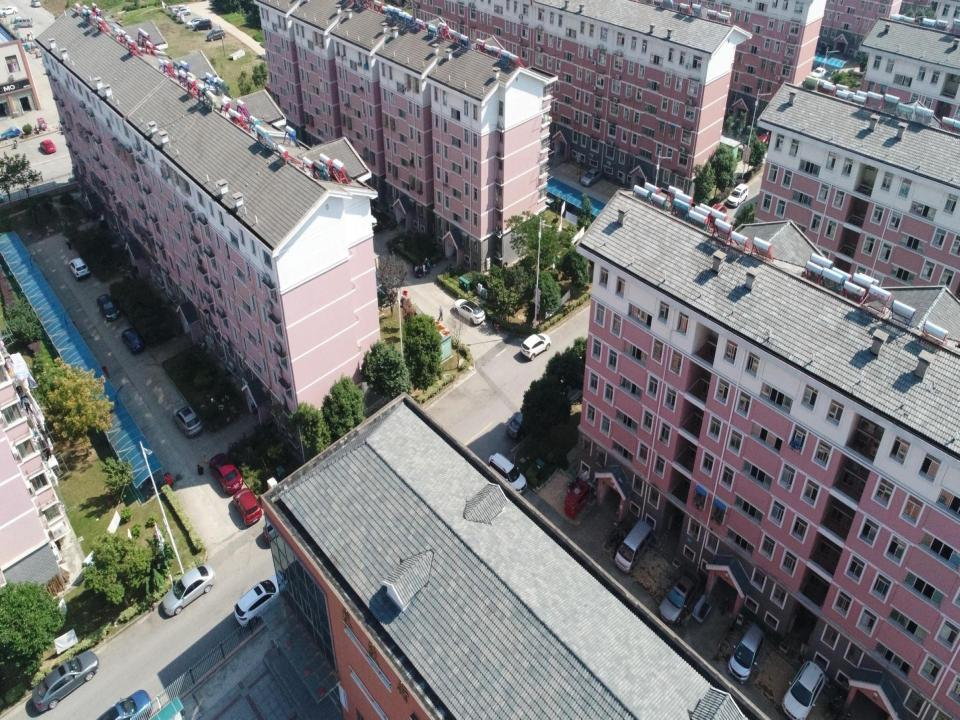car: (31, 648, 100, 714), (233, 569, 288, 628), (161, 562, 216, 617), (781, 659, 826, 720), (726, 620, 765, 686), (658, 567, 702, 625), (487, 451, 528, 495), (94, 690, 154, 720), (209, 452, 244, 496), (232, 486, 263, 528), (506, 404, 540, 440), (172, 403, 203, 438), (453, 297, 486, 327), (519, 331, 552, 361), (120, 327, 148, 355), (96, 292, 120, 324), (726, 182, 750, 209), (68, 256, 90, 282), (754, 121, 772, 151), (580, 166, 603, 188), (39, 138, 57, 156), (206, 27, 225, 43), (194, 19, 212, 31), (0, 4, 18, 16), (186, 17, 205, 27), (37, 116, 48, 131), (176, 7, 192, 16), (174, 3, 188, 12), (29, 0, 41, 9)
van: (614, 518, 655, 574), (564, 480, 591, 519), (13, 15, 34, 29)
